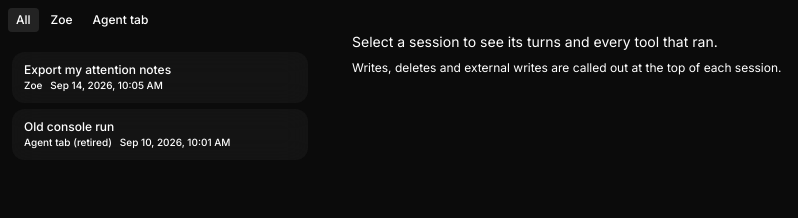
Test: ActivityPanel › says plainly when a session only read
Click the text "Export my attention notes". click: (98, 70)
box: 24,62 -> 171,77
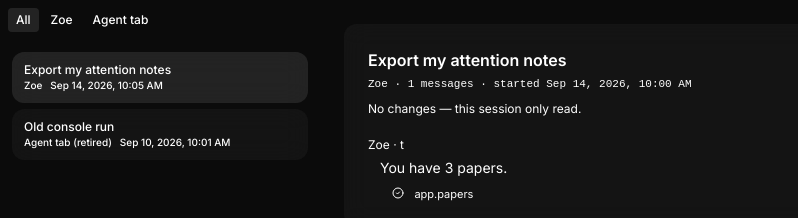
Result: the text with test id "session-changes" shows "No changes" at 368,100 -> 581,116
